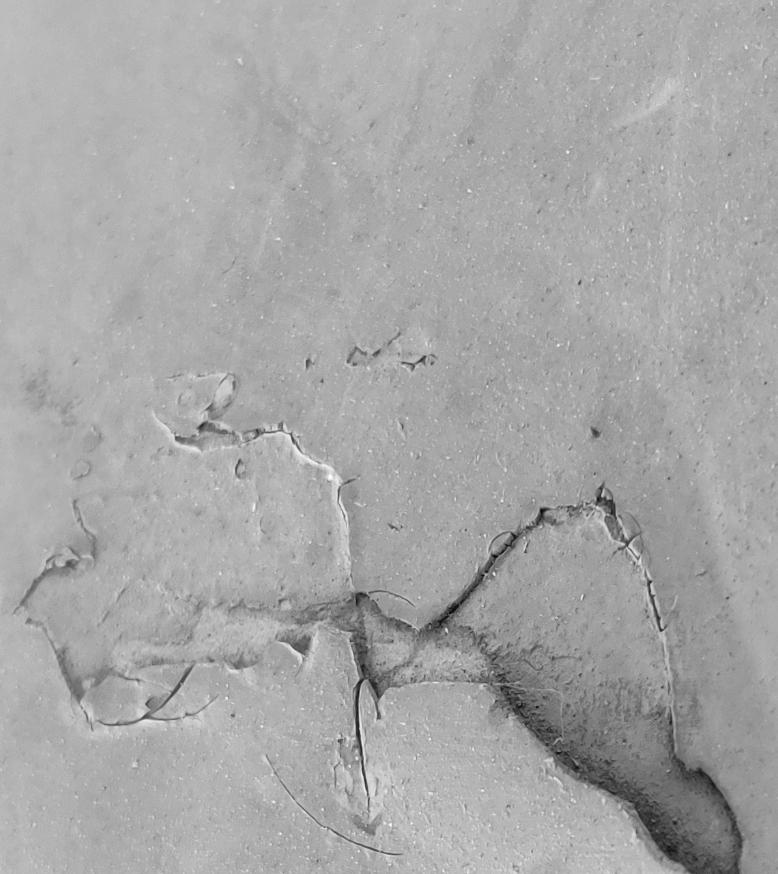crack: (1, 0, 778, 873)
